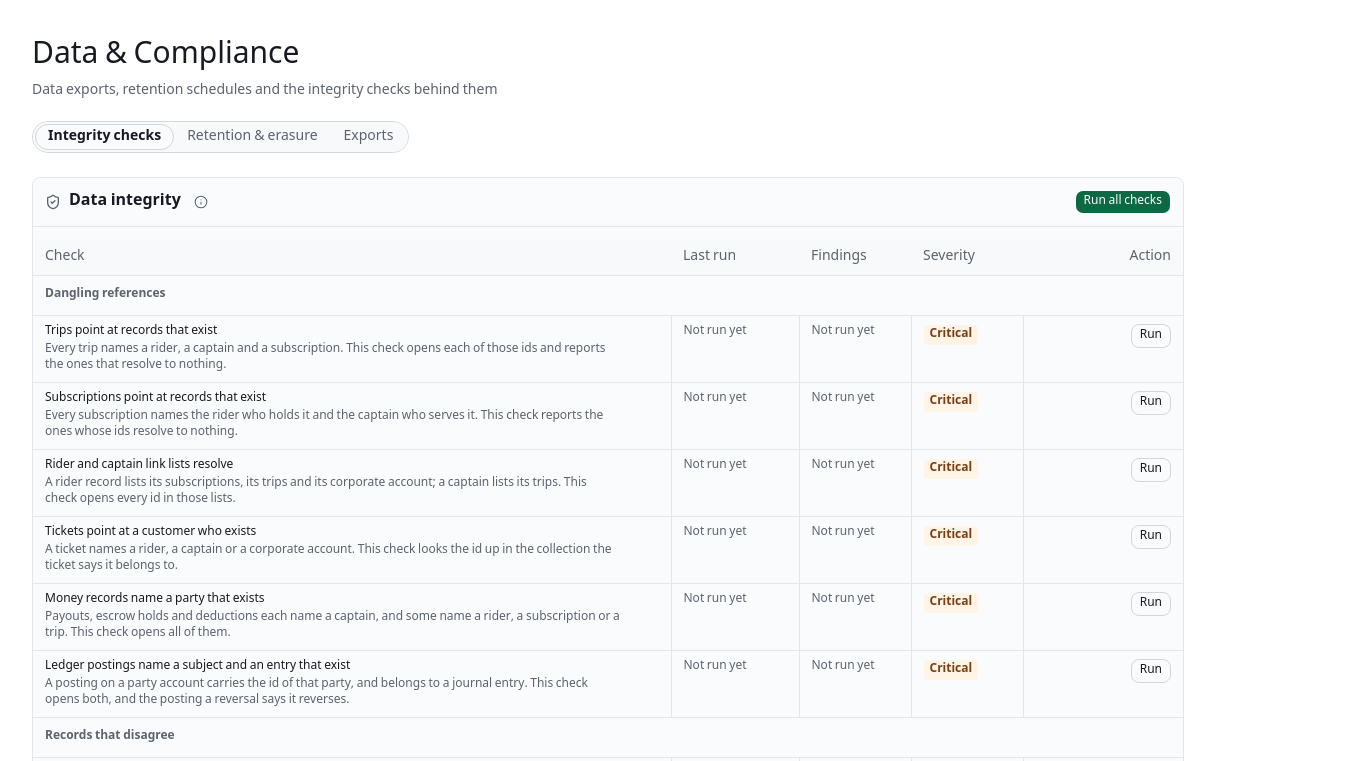
Test: the rule — every finding names the check that produced it › renders a check title on every single finding row
Click the button "Run all checks". click: (1123,202)
box: [1075, 190, 1171, 214]
(page scrolled)
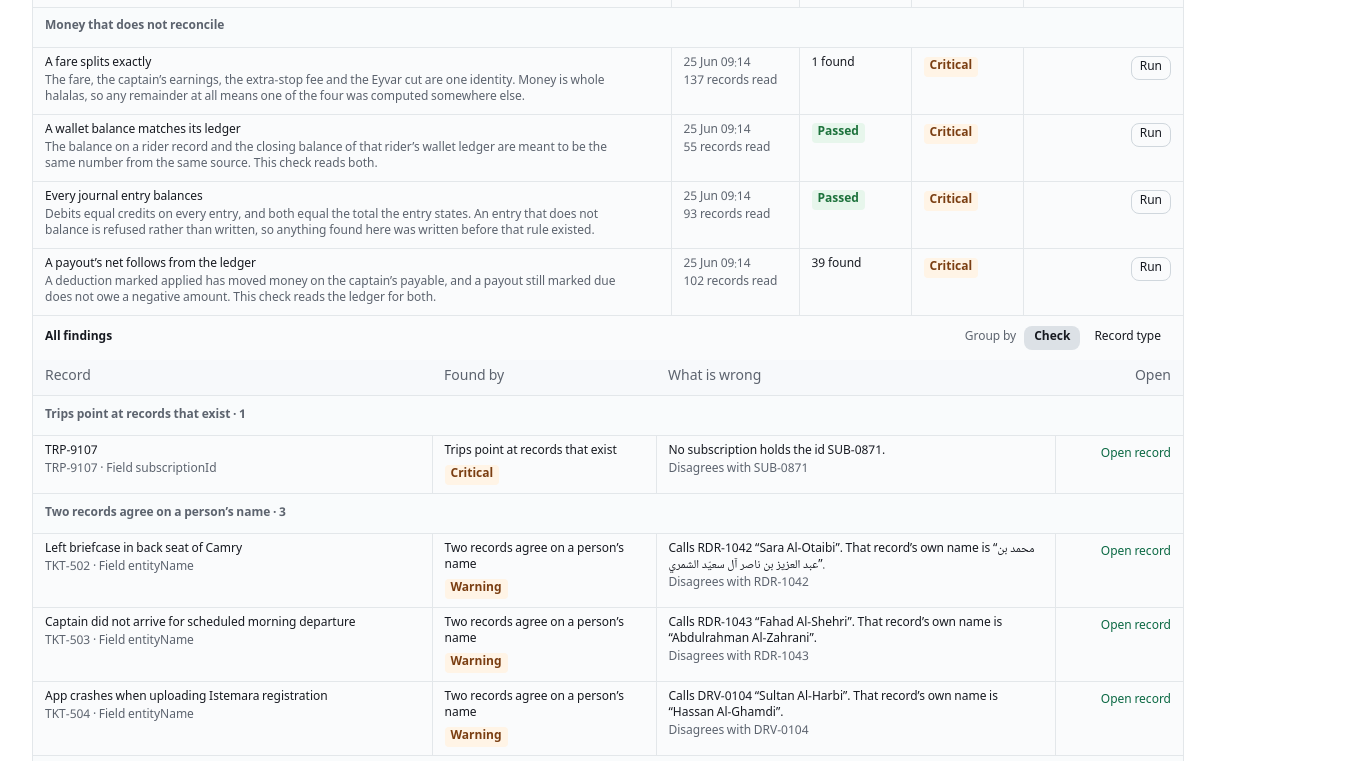
Now the heading "All findings" is shown, box [45, 330, 112, 346]
Now the column heading "What is wrong" is shown, box [656, 360, 1055, 396]
Now the column heading "Found by" is shown, box [432, 360, 656, 396]
